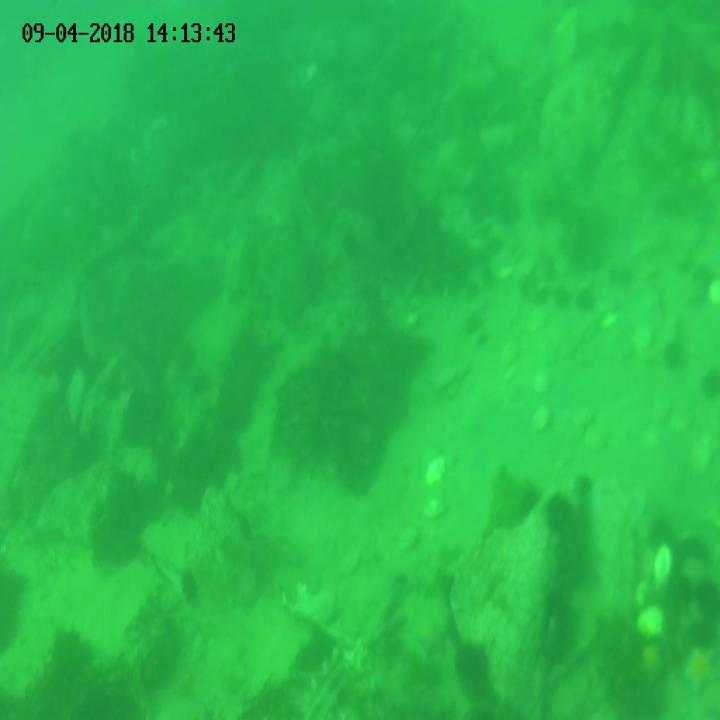scallop: (398, 523, 423, 556), (584, 422, 608, 452), (424, 453, 446, 485), (530, 404, 552, 435), (423, 497, 449, 521)
